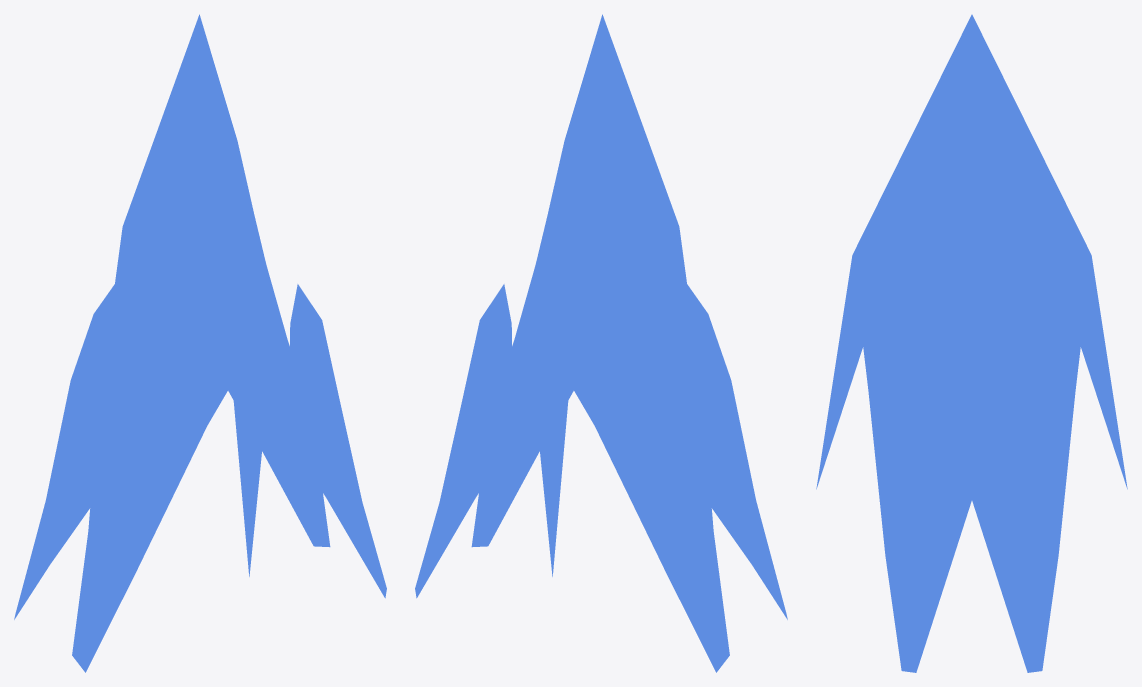
File: grulla.glb
3 renders of one model, left to right at view 1: azimuth 30°, elevation 25°; view 2: azimuth 150°, elevation 25°; view 3: azimuth 270°, elevation 25°, orthographic.
Parts seen in each view (by area): view 1: grulla; view 2: grulla; view 3: grulla.
Part boxes in pixels (left/top/right/bottom): grulla: left=14, top=14, right=386, bottom=672; grulla: left=415, top=14, right=787, bottom=672; grulla: left=816, top=14, right=1127, bottom=672.
Size of the model in its own units: 1.71 by 3.1 by 1.49.
